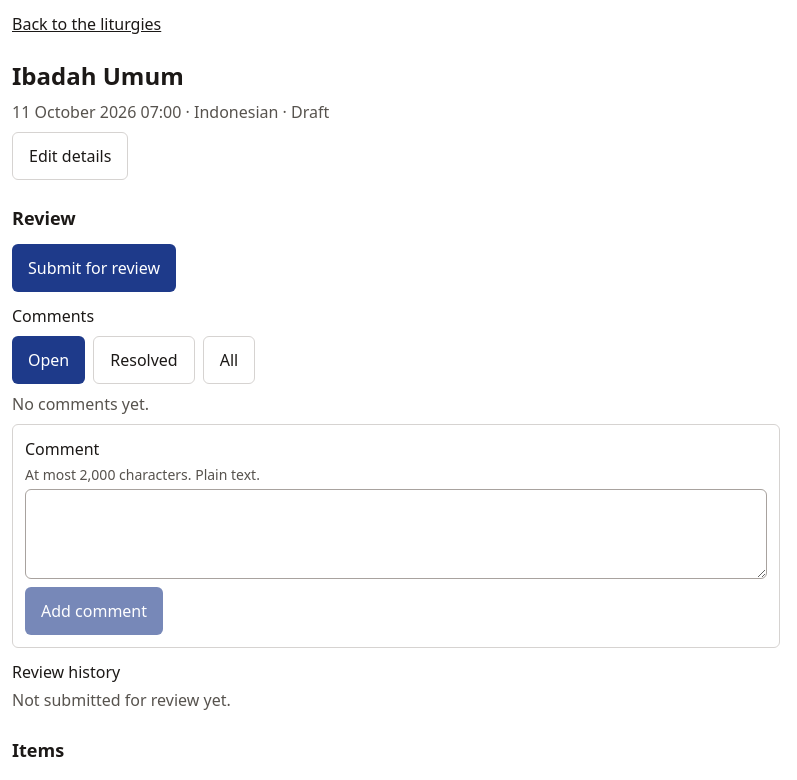
it: WT-R-004 comments › explains the limit
In the text box labelled "Comment": (396, 534) x1=25 y1=489 x2=767 y2=579, type "x"
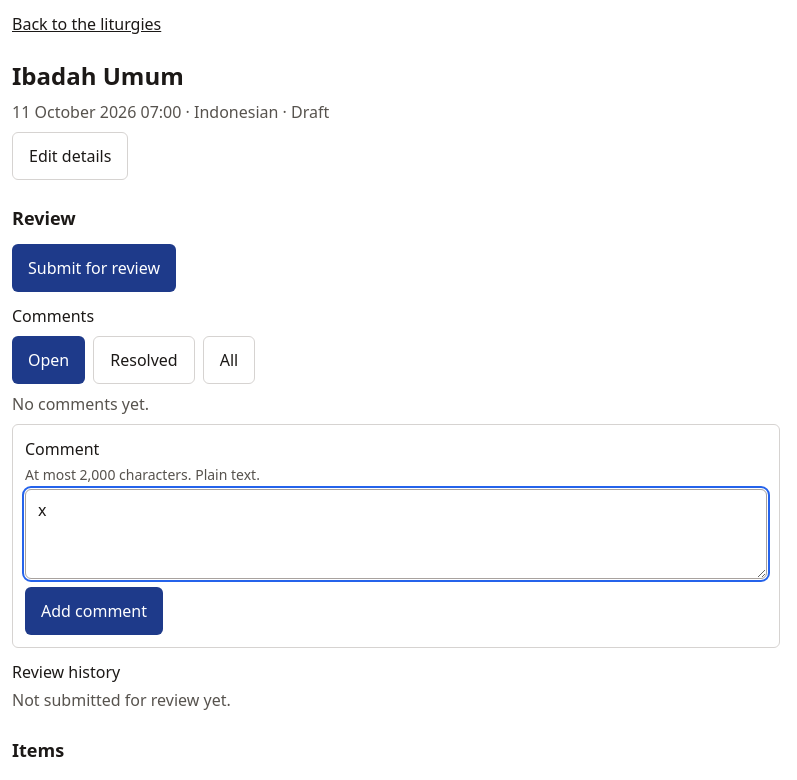
Click the button "Add comment": (94, 611) x1=25 y1=587 x2=163 y2=635
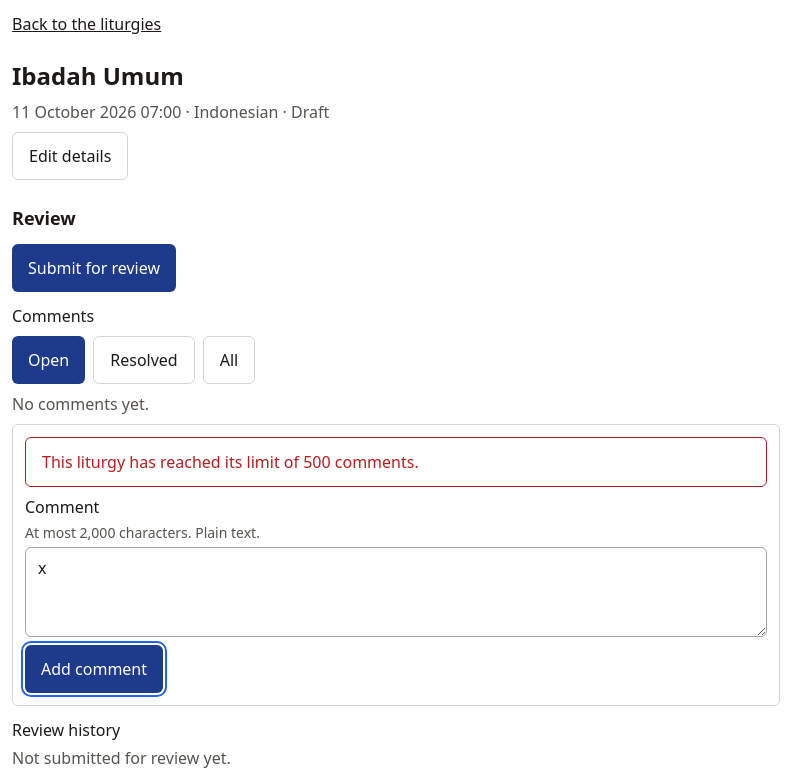
expect the text "This liturgy has reached its limit of 500 comments." is shown: met, box x1=42 y1=451 x2=419 y2=473
